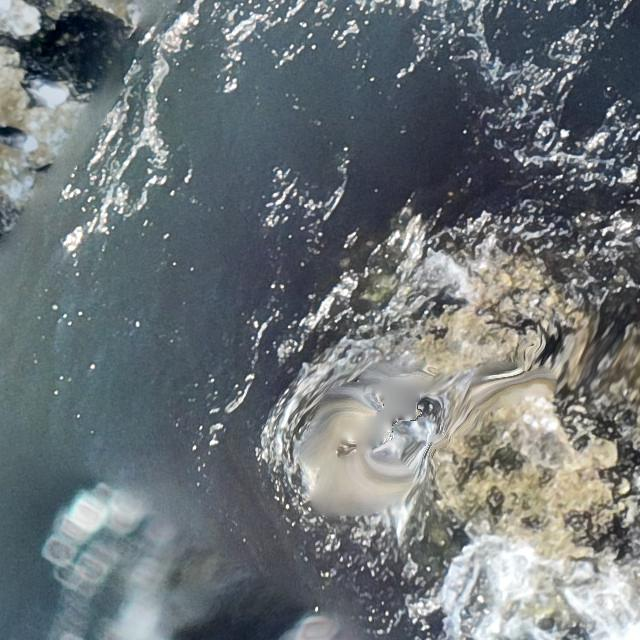umineko: (5, 133, 35, 151)
